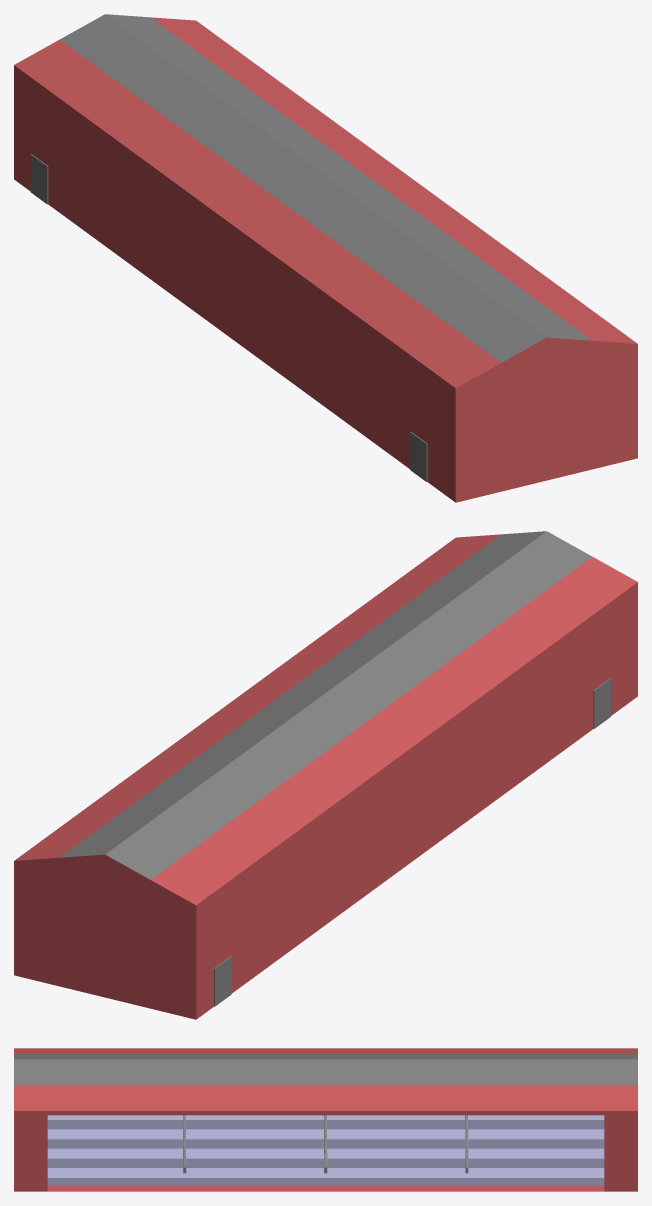
File: FootballSeating.fbx
The picture shows the model from 3 angles, top to bottom: view 1: azimuth 30°, elevation 25°; view 2: azimuth 150°, elevation 25°; view 3: azimuth 270°, elevation 25°; orthographic projection. The views are drawn at different scales.
Visible parts, largest first — view 1: Cube.003; view 2: Cube.003; view 3: Cube.003, Cube.001.
Part boxes in pixels (x1=…): Cube.003: x1=14, y1=14, x2=637, y2=502; Cube.003: x1=14, y1=531, x2=637, y2=1019; Cube.003: x1=14, y1=1048, x2=637, y2=1191; Cube.001: x1=47, y1=1115, x2=604, y2=1185.
Bounding box in the file's own units: 2515 × 1908 × 10500.
